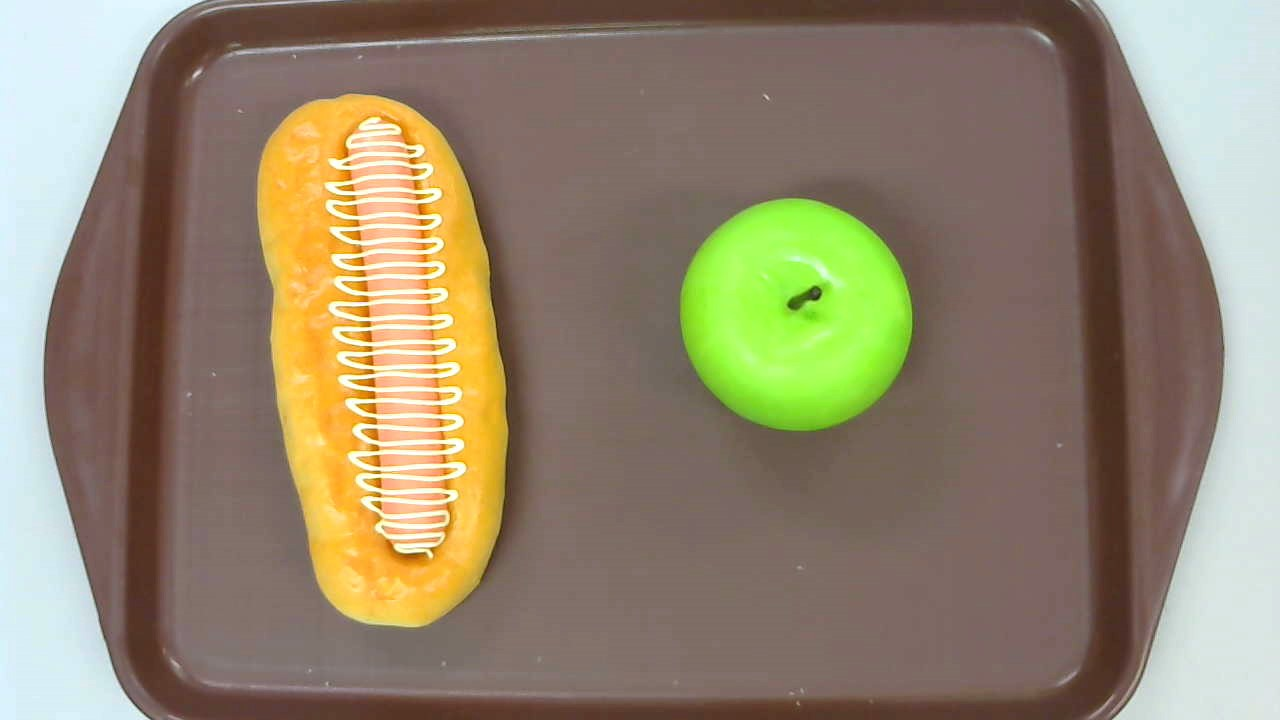green apple: (678, 199, 912, 434)
hot dog: (254, 92, 508, 628)
